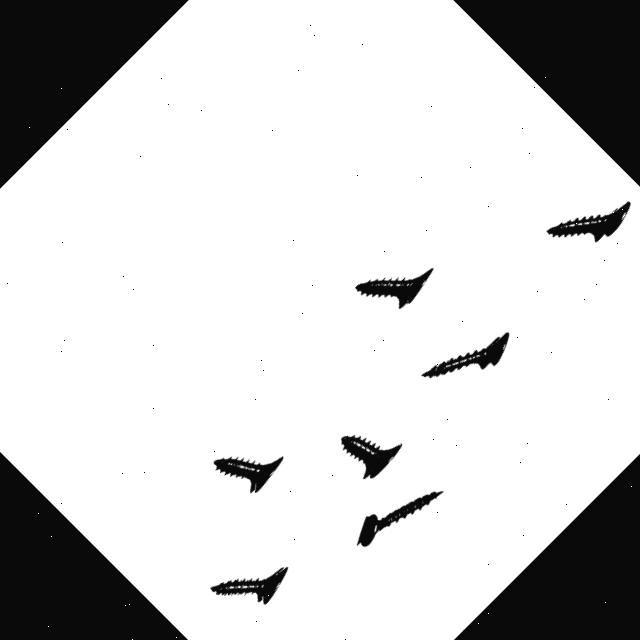Screw: (355, 492, 441, 548), (421, 333, 508, 379), (546, 202, 630, 243), (354, 269, 431, 309), (209, 569, 286, 606), (339, 437, 400, 480), (212, 458, 281, 494)
